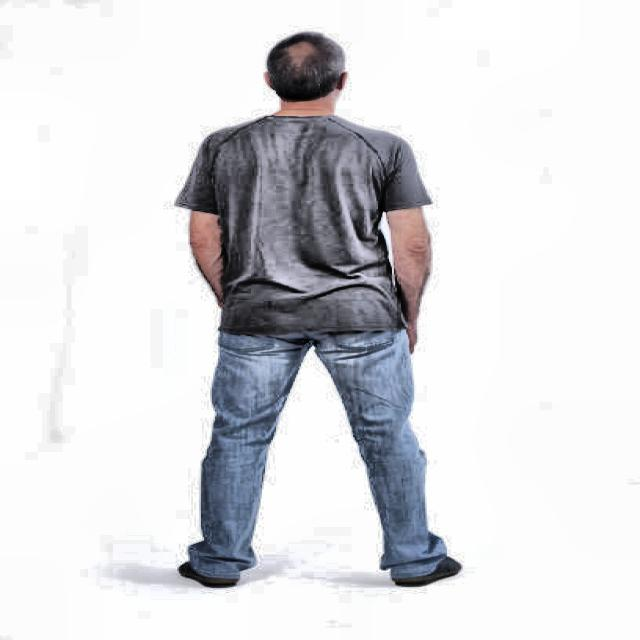Human: (142, 22, 500, 610)
